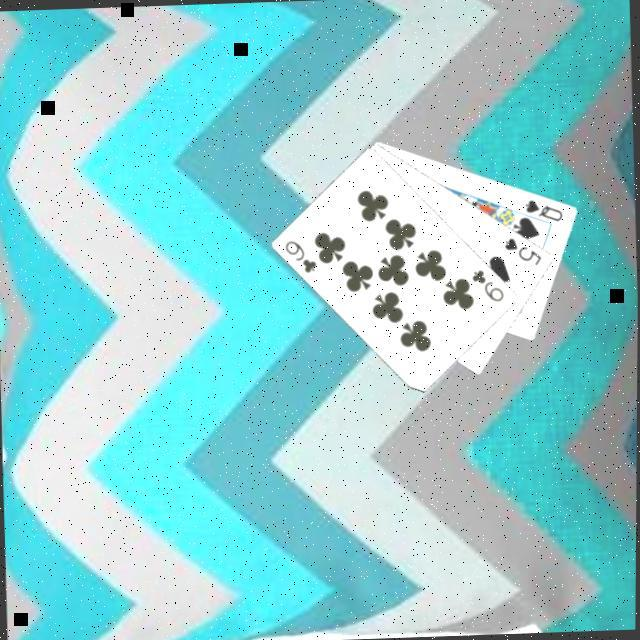5S: (499, 234, 544, 271)
9C: (467, 267, 506, 307), (280, 238, 319, 278)
QS: (520, 196, 565, 228)
